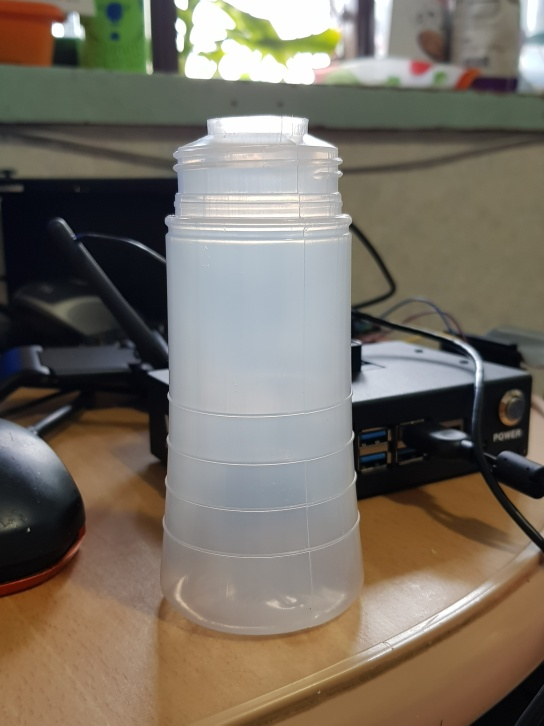Plastic: (158, 113, 369, 642)
